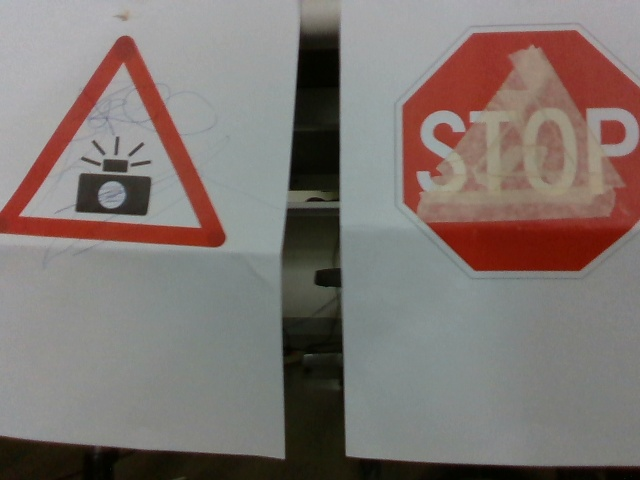camera: (8, 34, 225, 248)
stop: (392, 25, 640, 279)
